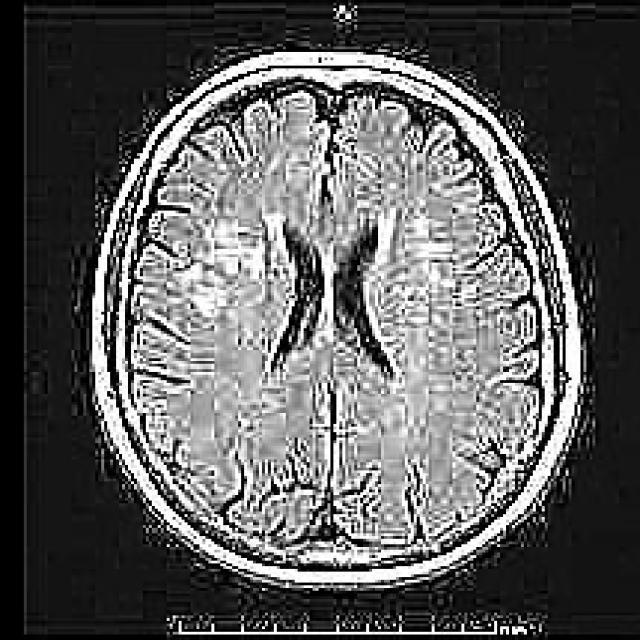notumor: (92, 52, 583, 591)
